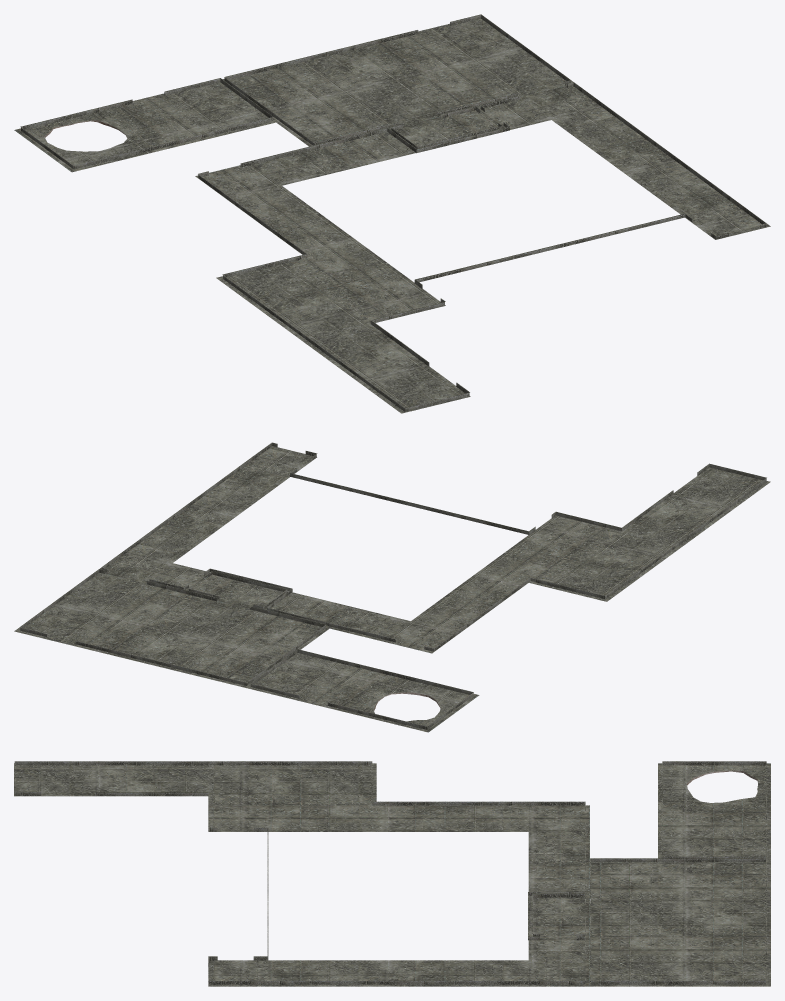
The model's file is A2_H1_Floor.FBX.
3 renders of one model, top to bottom at view 1: azimuth 30°, elevation 25°; view 2: azimuth 150°, elevation 25°; view 3: azimuth 270°, elevation 25°, orthographic. The views are drawn at different scales.
Parts seen in each view (by area): view 1: A2_H1_Floor; view 2: A2_H1_Floor; view 3: A2_H1_Floor.
Part boxes in pixels (bbox=[...]): A2_H1_Floor: bbox=[14, 14, 770, 413]; A2_H1_Floor: bbox=[14, 442, 770, 732]; A2_H1_Floor: bbox=[14, 761, 770, 986].
Size of the model in its own units: 1830 by 22.53 by 2619.
